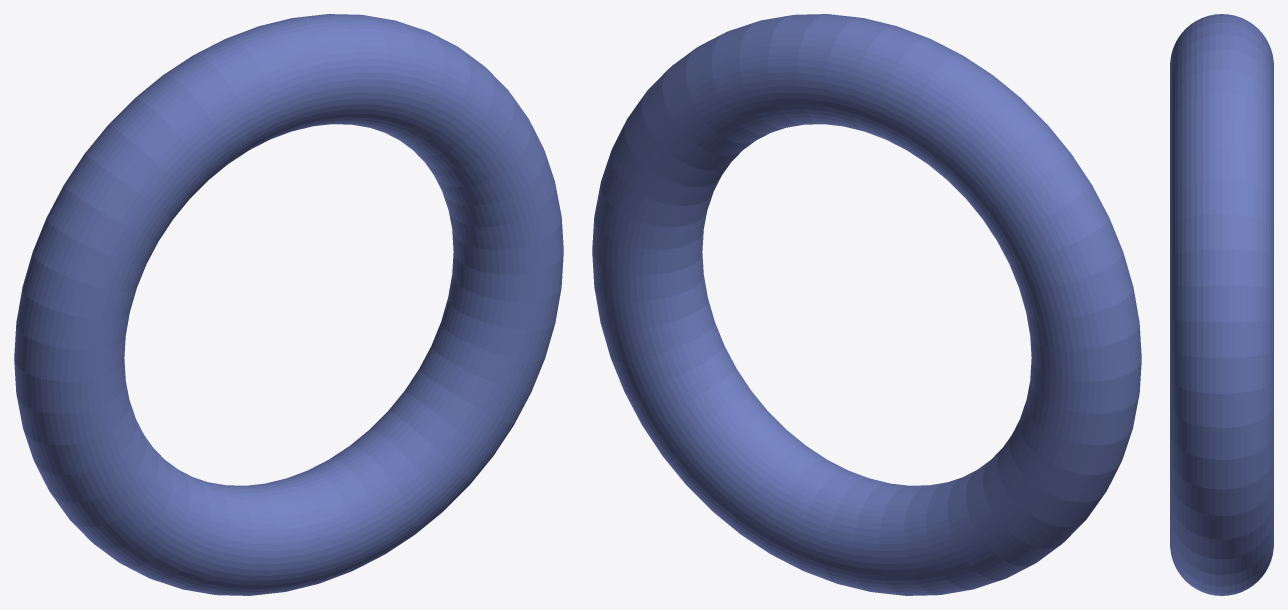
The picture shows the model from 3 angles, left to right: view 1: azimuth 30°, elevation 25°; view 2: azimuth 150°, elevation 25°; view 3: azimuth 270°, elevation 25°; orthographic projection. The views are drawn at different scales.
Visible parts, largest first — view 1: world; view 2: world; view 3: world.
Boxes of the visible parts, x1=… form: world: x1=14, y1=14, x2=563, y2=595; world: x1=592, y1=14, x2=1141, y2=595; world: x1=1170, y1=14, x2=1273, y2=595.
Size of the model in its own units: 18.67 by 18.63 by 3.33.
